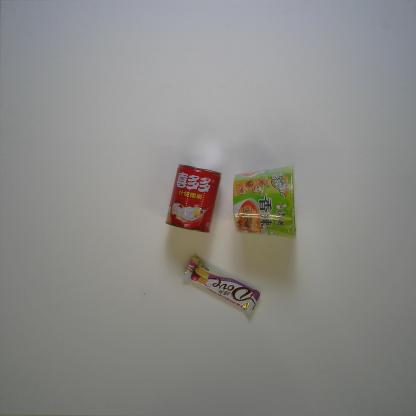Canned Food: (165, 163, 223, 234)
Chocolate: (180, 256, 262, 316)
Instant Noodles: (232, 163, 299, 242)
